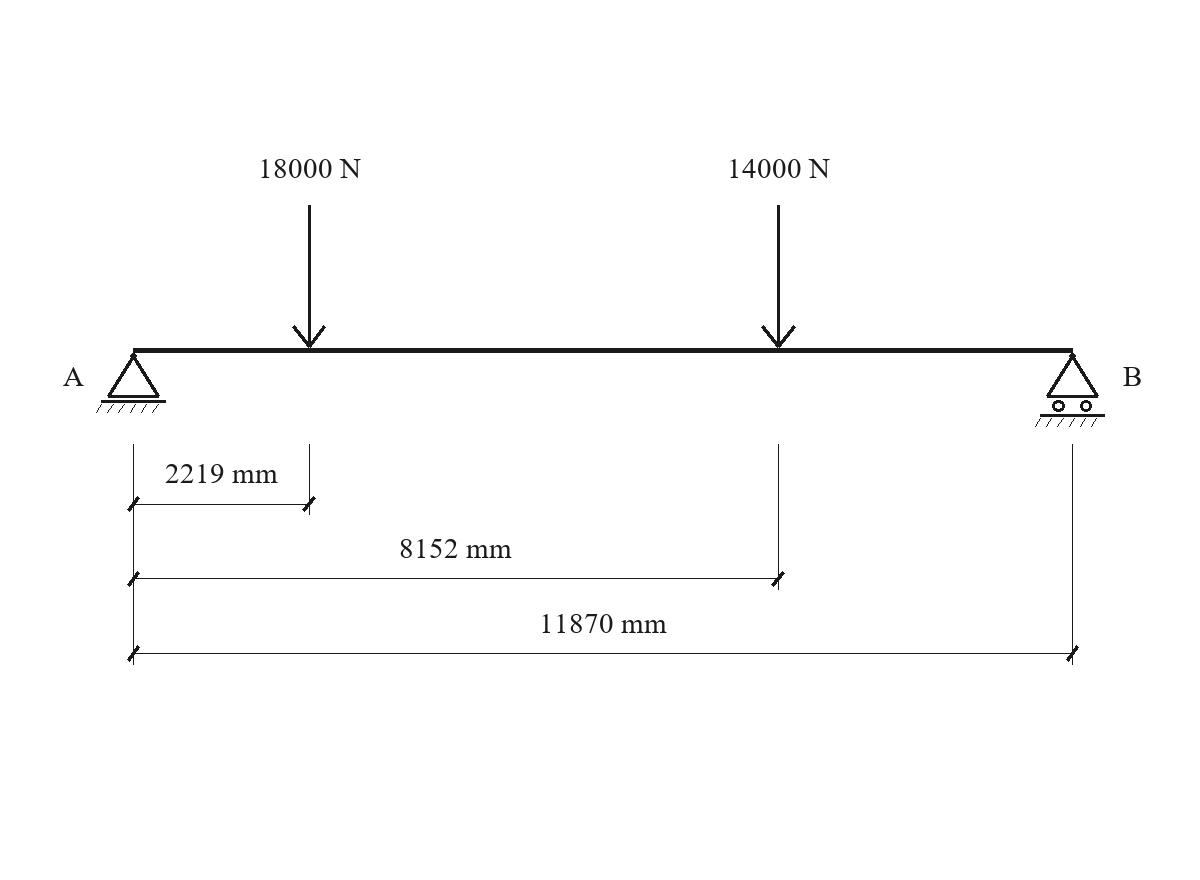pin_support: (96, 353, 166, 413)
point_load: (761, 205, 796, 348), (292, 205, 326, 348)
roller_support: (1035, 353, 1105, 427)
